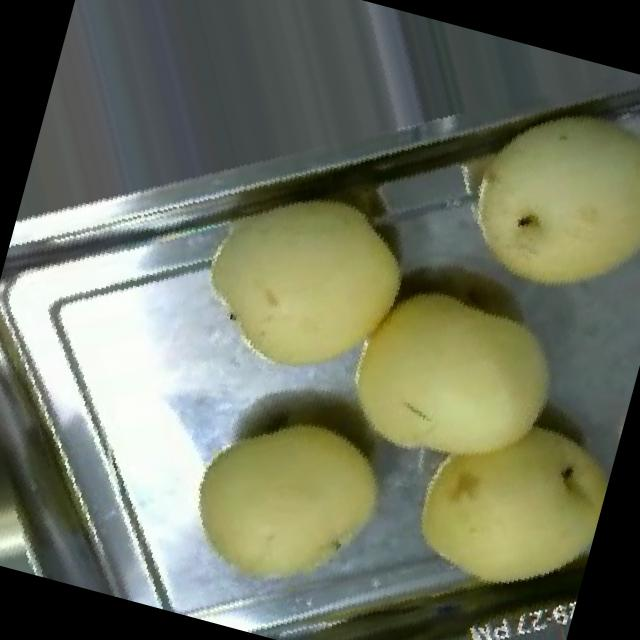Fruit: (304, 246, 596, 530), (166, 152, 442, 412), (372, 368, 622, 632), (159, 378, 420, 628), (420, 59, 640, 338)
